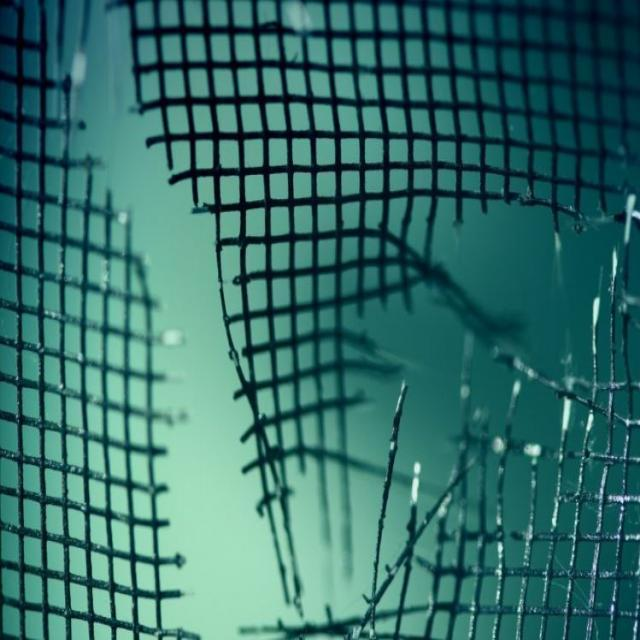fence line: (62, 14, 627, 631)
